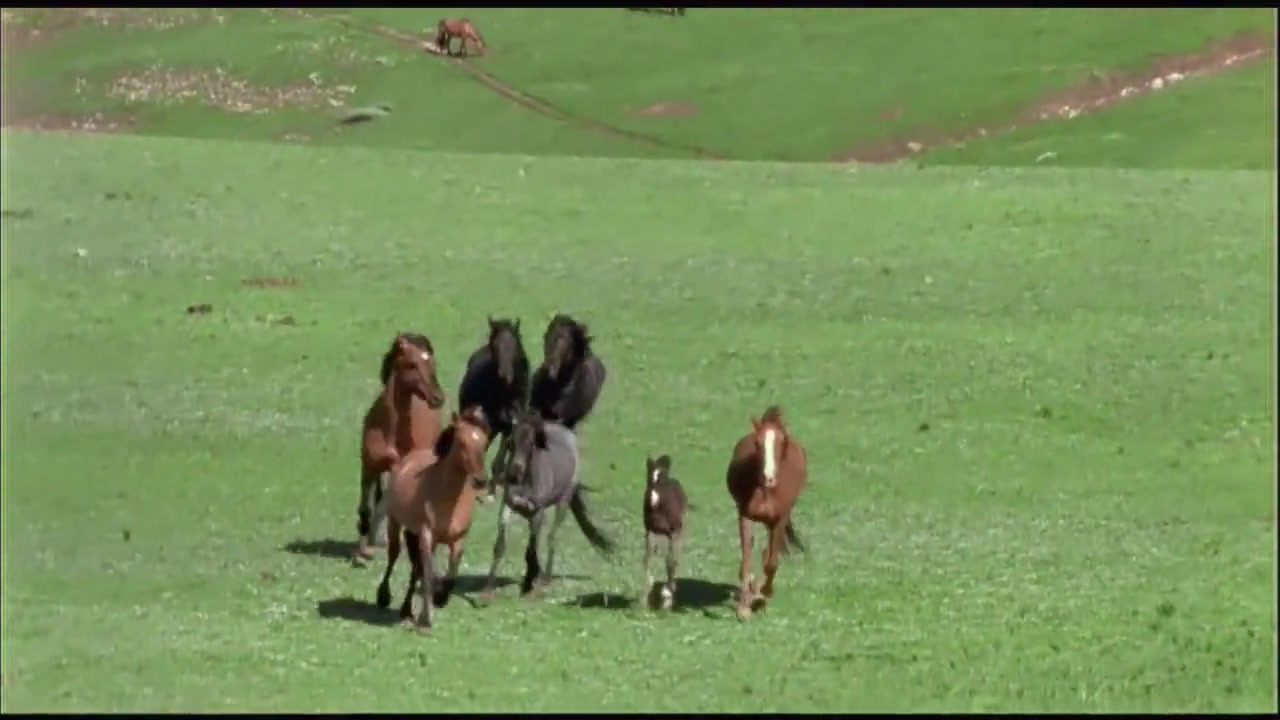horse: (724, 406, 812, 624)
